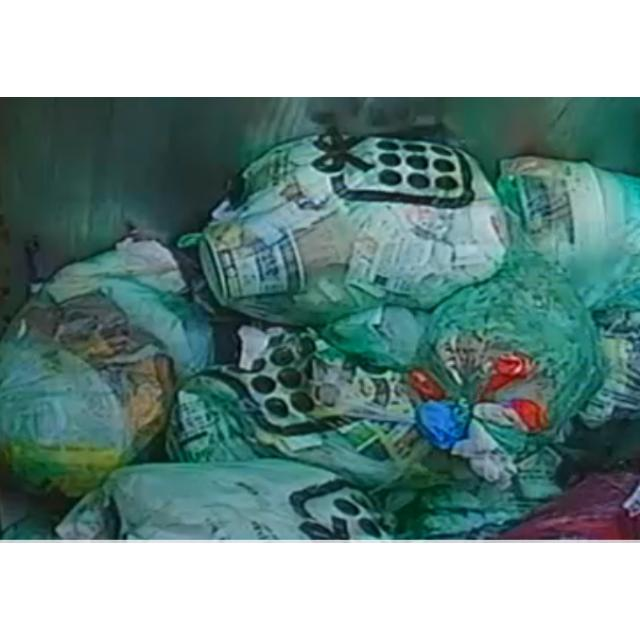general_trashbag: (200, 133, 510, 326), (0, 240, 211, 496), (411, 251, 601, 500), (166, 327, 426, 486), (59, 460, 390, 541), (498, 157, 640, 310)
